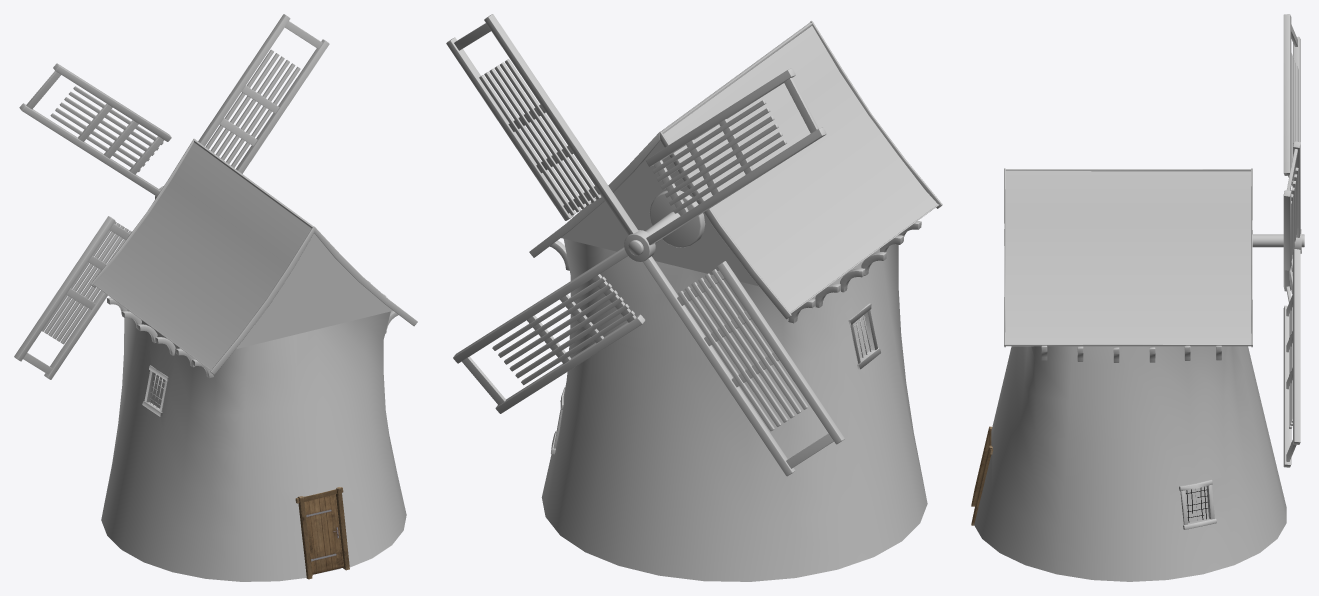
File: SM_Windmill_01.FBX
The picture shows the model from 3 angles, left to right: view 1: azimuth 30°, elevation 25°; view 2: azimuth 150°, elevation 25°; view 3: azimuth 270°, elevation 25°; orthographic projection. The views are drawn at different scales.
Visible parts, largest first — view 1: SM_WindmillBase_01, SM_Windmill_Wheel, SM_Door_01; view 2: SM_WindmillBase_01, SM_Windmill_Wheel, Cylinder008; view 3: SM_WindmillBase_01, SM_Windmill_Wheel.
Part boxes in pixels (x1,y1,x2,y2): SM_WindmillBase_01: (90, 138, 417, 581); SM_Windmill_Wheel: (14, 14, 329, 379); SM_Door_01: (305, 494, 343, 574); SM_WindmillBase_01: (529, 21, 942, 581); SM_Windmill_Wheel: (446, 14, 844, 476); Cylinder008: (649, 190, 705, 247); SM_WindmillBase_01: (971, 168, 1286, 581); SM_Windmill_Wheel: (1252, 14, 1304, 467).
Bounding box in the file's own units: 10.98 × 14.34 × 9.78.
